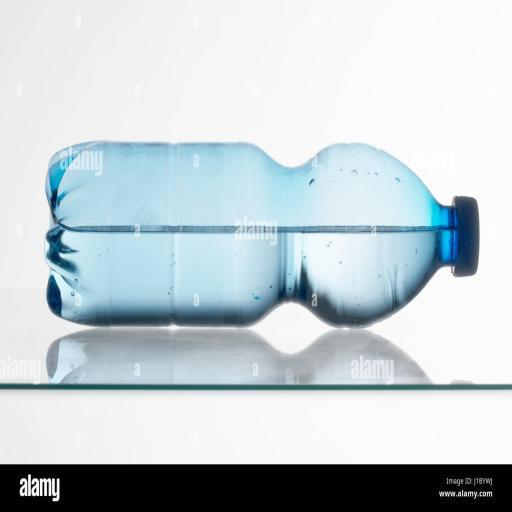bottle: (36, 112, 483, 354)
